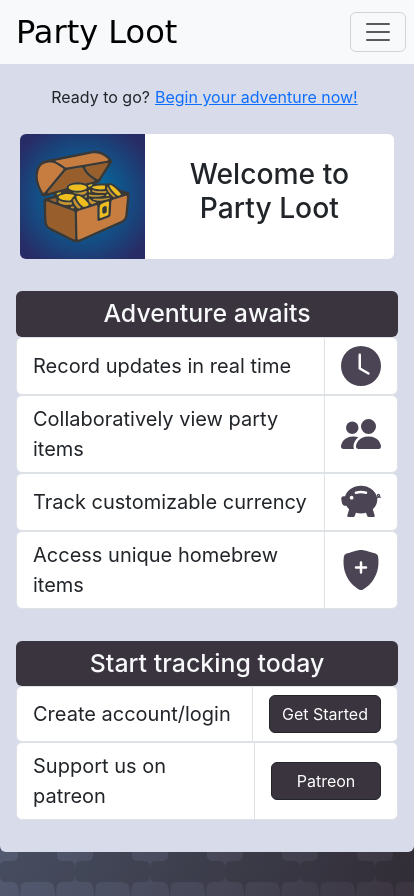
Test: routing protection › login option exists
Click the button with test id "navbar-toggle" at (378, 32), box [350,12,406,52]
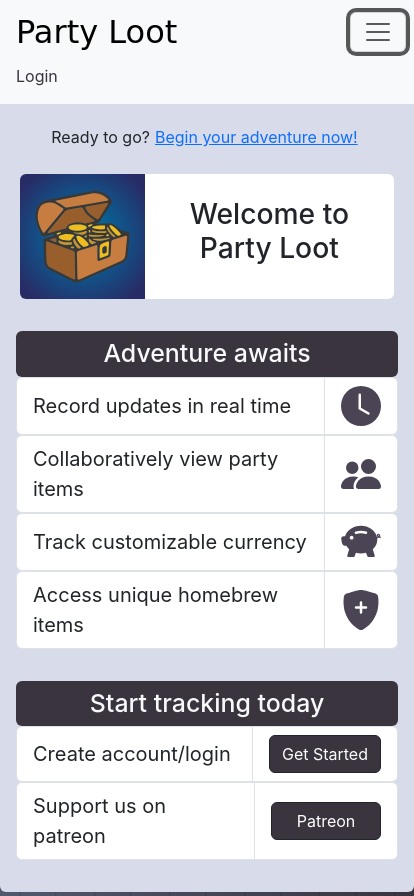
Expected: the button with test id "navbar-login" is shown, [16,66,58,86]
